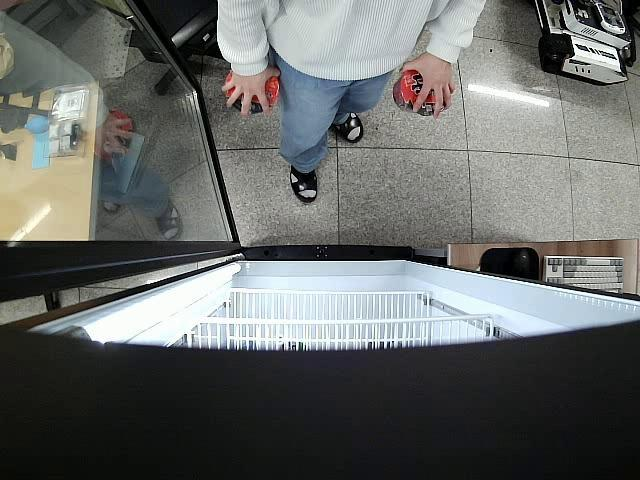01_ShinRamen_L: (393, 70, 448, 118), (223, 70, 279, 113)
